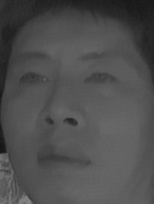eye: (84, 67, 120, 90), (15, 69, 49, 89)
mouth: (34, 139, 93, 177)
